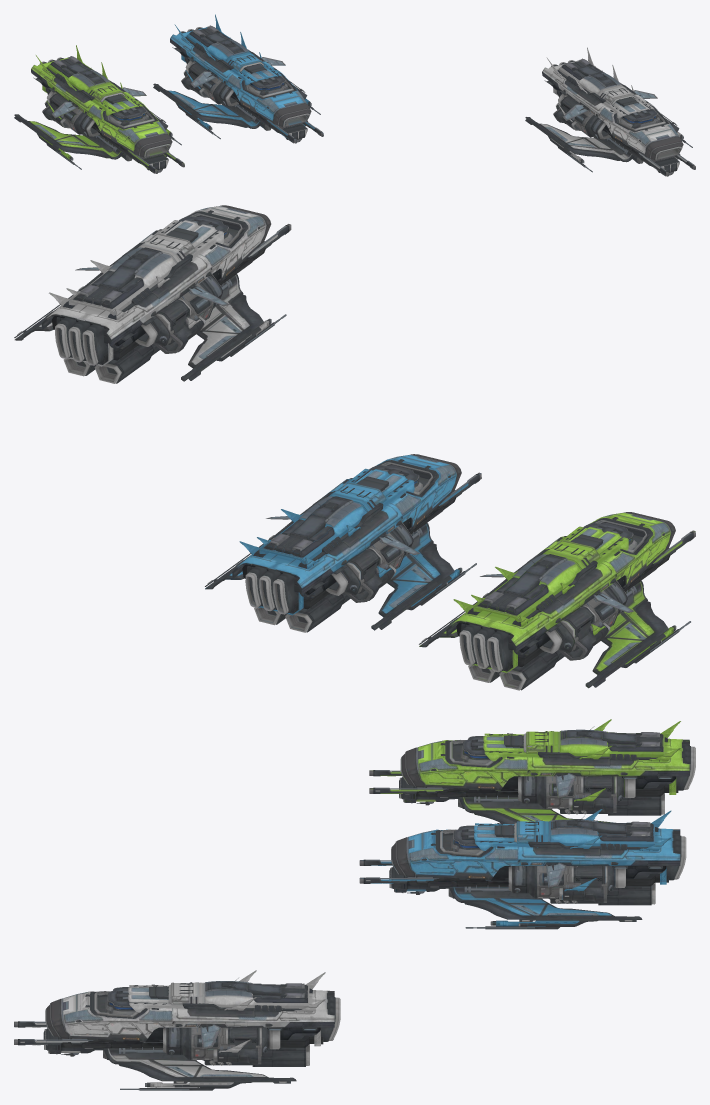
Rendered from spaceship-test_lod4.glb.
The picture shows the model from 3 angles, top to bottom: view 1: azimuth 30°, elevation 25°; view 2: azimuth 150°, elevation 25°; view 3: azimuth 270°, elevation 25°; orthographic projection. The views are drawn at different scales.
Parts seen in each view (by area): view 1: Cube.005, Cube.034, Cube.007; view 2: Cube.007, Cube.005, Cube.034; view 3: Cube.034, Cube.007, Cube.005.
Part boxes in pixels (x1=…): Cube.005: x1=14, y1=45, x2=184, y2=173; Cube.034: x1=153, y1=14, x2=323, y2=143; Cube.007: x1=525, y1=47, x2=695, y2=176; Cube.007: x1=14, y1=205, x2=291, y2=383; Cube.005: x1=419, y1=512, x2=695, y2=690; Cube.034: x1=205, y1=454, x2=481, y2=632; Cube.034: x1=359, y1=809, x2=686, y2=929; Cube.007: x1=14, y1=970, x2=340, y2=1090; Cube.005: x1=369, y1=719, x2=695, y2=823.
Size of the model in its own units: 120 by 13.48 by 107.
Materials: 3 (3 with a texture image).
